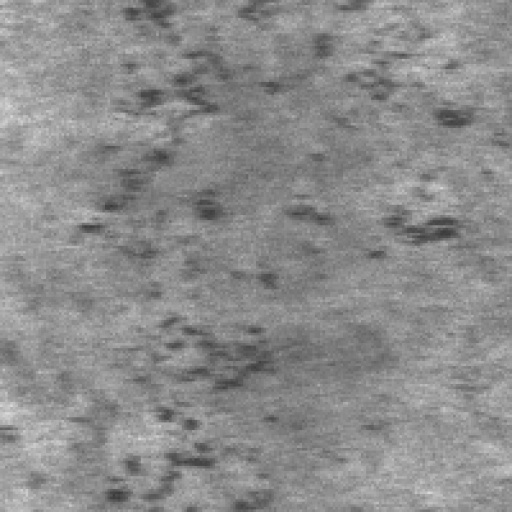rolled_in_scale: (225, 4, 492, 295), (36, 0, 222, 301), (61, 302, 289, 509)
